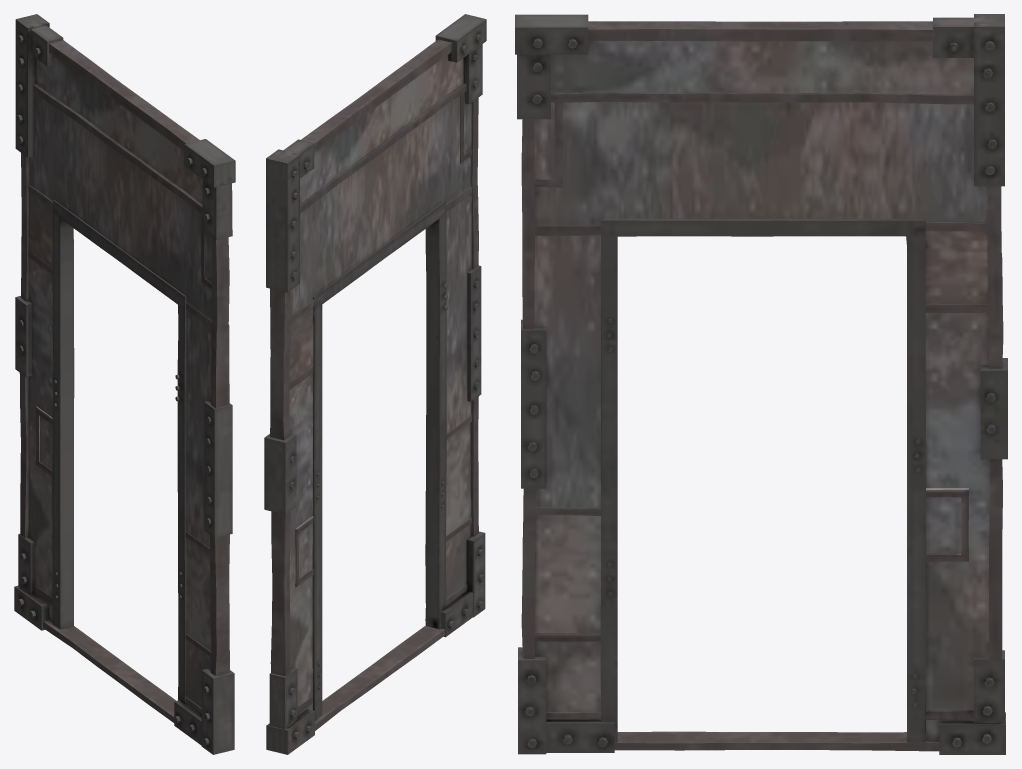
The model's file is SM_WallGate_Iron_d464c6.glb.
3 renders of one model, left to right at view 1: azimuth 30°, elevation 25°; view 2: azimuth 150°, elevation 25°; view 3: azimuth 270°, elevation 25°, orthographic. The views are drawn at different scales.
Size of the model in its own units: 0.3369 by 6.71 by 4.11.
Materials: 1 (1 with a texture image).
